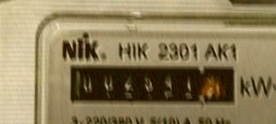0: (82, 73, 95, 94), (103, 71, 115, 92)
1: (184, 70, 195, 94)
2: (123, 70, 137, 92)
4: (164, 70, 175, 91)
5: (143, 71, 156, 94)
6: (206, 87, 217, 99)
screen: (59, 56, 248, 113)
